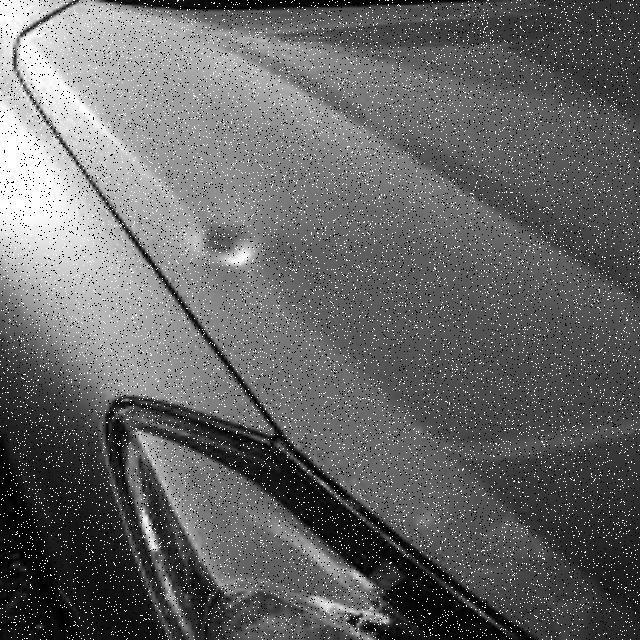bonnet-dent: (0, 0, 636, 484)
